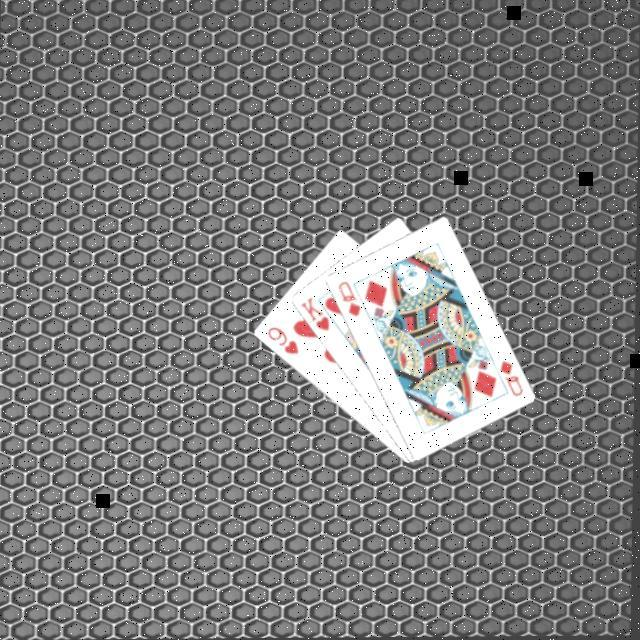9H: (265, 323, 303, 357)
KH: (299, 294, 334, 334)
QD: (497, 356, 527, 399), (335, 277, 365, 319)
